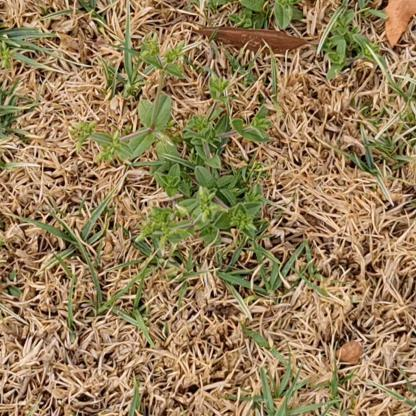Weeds: (64, 33, 278, 262), (234, 0, 390, 79)
